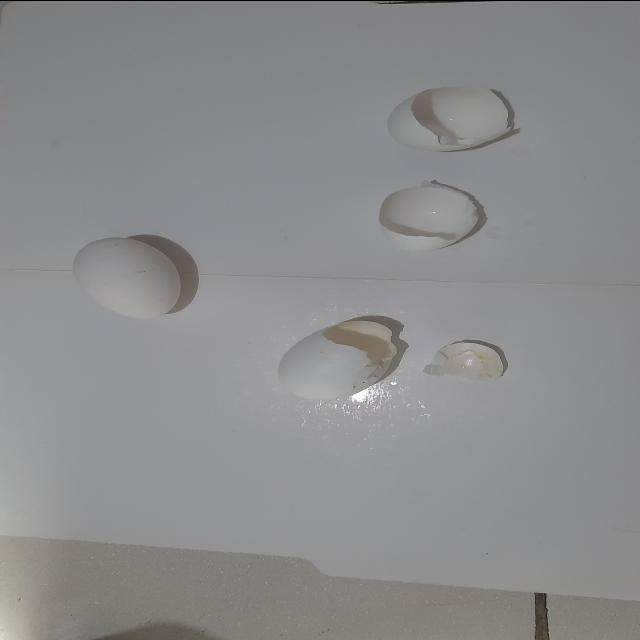egg shell: (362, 76, 530, 160), (271, 309, 412, 406), (62, 230, 205, 324), (370, 176, 491, 259), (418, 335, 510, 383)
